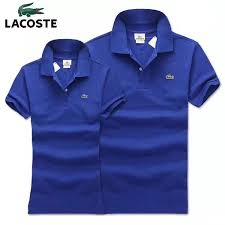S_polo shirt: (78, 12, 221, 221), (6, 44, 124, 217)
